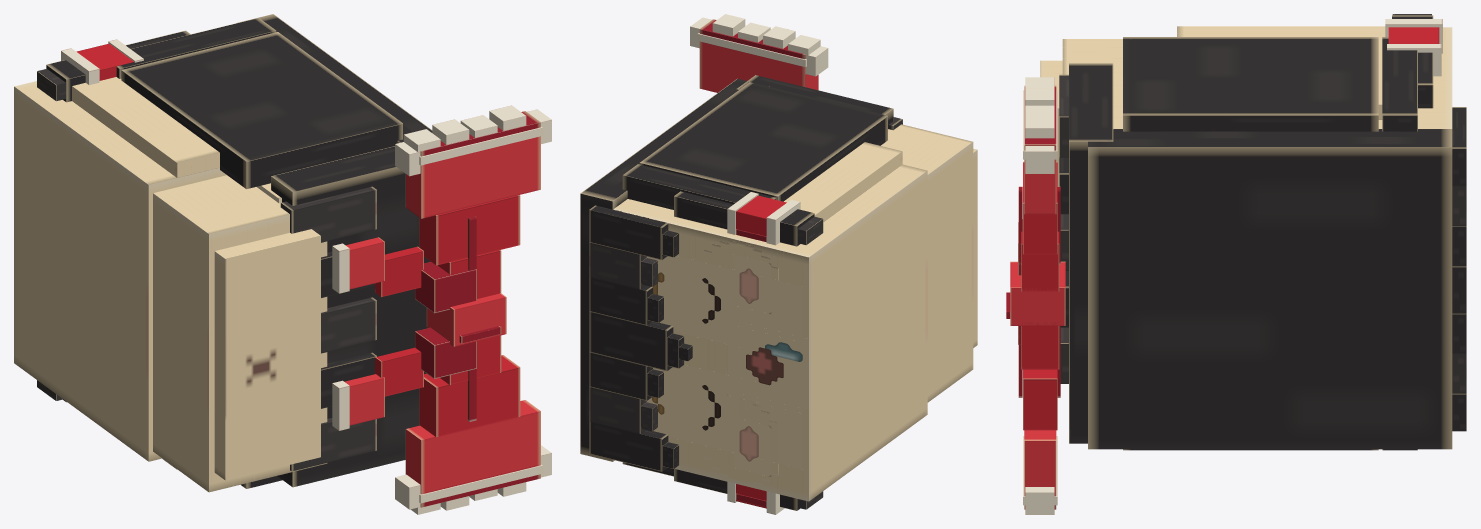
File: yukkuri_remains.obj
3 renders of one model, left to right at view 1: azimuth 30°, elevation 25°; view 2: azimuth 150°, elevation 25°; view 3: azimuth 270°, elevation 25°, orthographic. The views are drawn at different scales.
Visible parts, largest first — view 1: yukkuri_remains; view 2: yukkuri_remains; view 3: yukkuri_remains.
Boxes of the visible parts, x1=… form: yukkuri_remains: x1=14, y1=14, x2=551, y2=514; yukkuri_remains: x1=580, y1=14, x2=977, y2=514; yukkuri_remains: x1=1006, y1=14, x2=1466, y2=514.
Size of the model in its own units: 12.24 by 13.35 by 14.49.
1 material, 1 textured.
